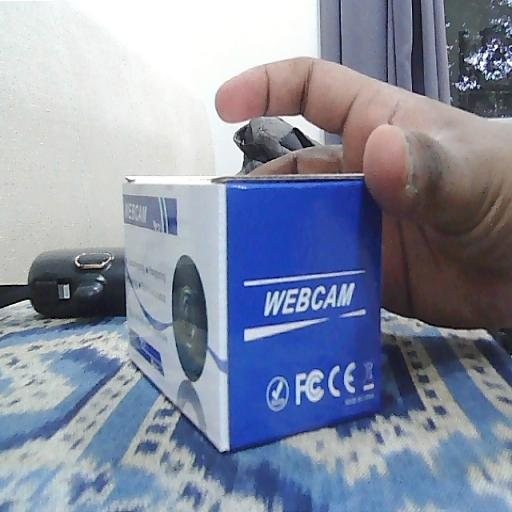webcam_box: (122, 174, 383, 453)
